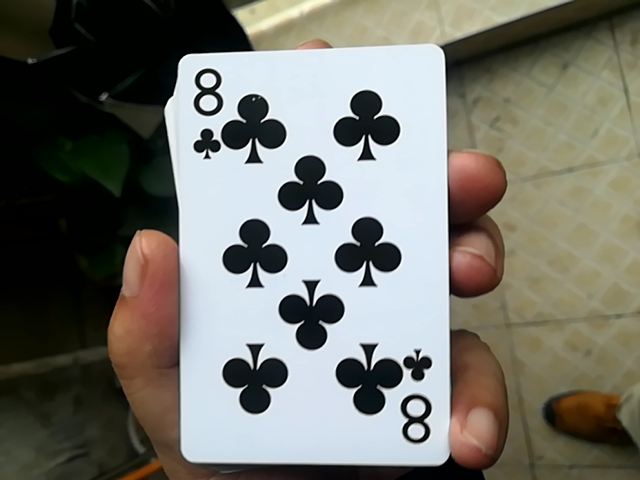mh 8: (151, 30, 451, 452)
